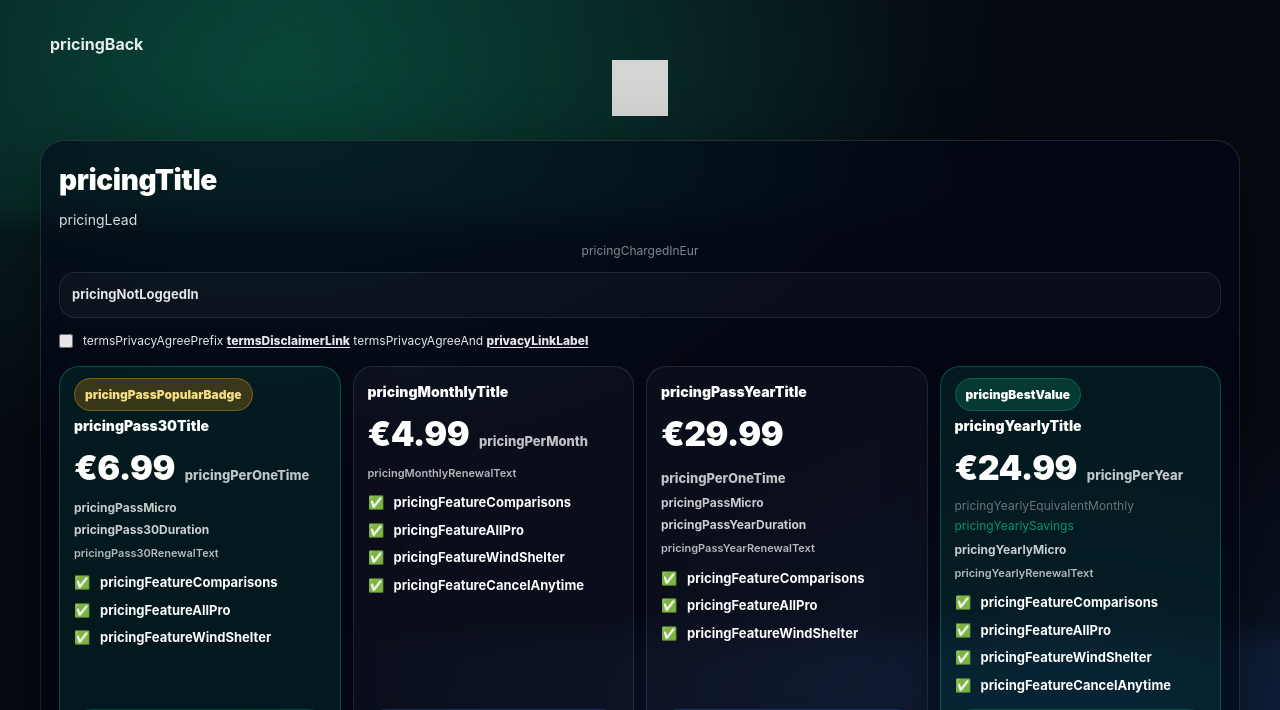
Test: Pricing — four plan cards › pass CTA buttons become enabled after accepting terms
Click the checkbox at (66, 340), box [59,334,73,348]
(page scrolled)
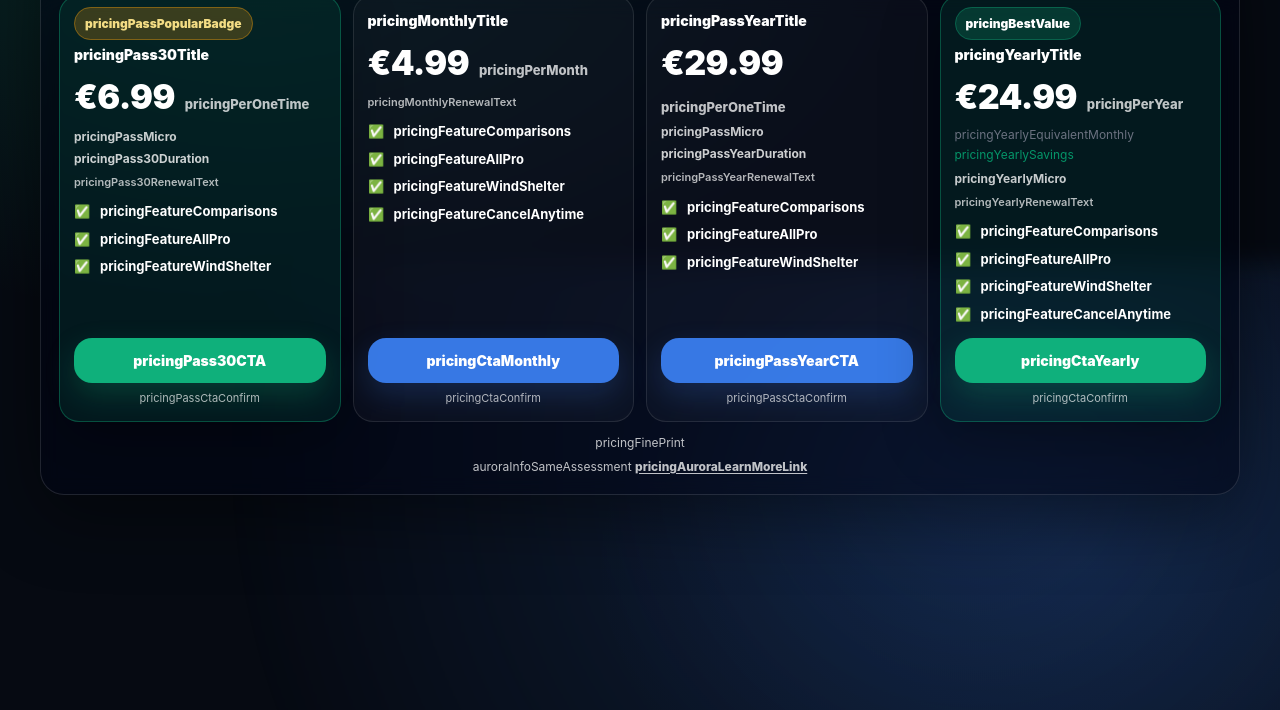
Expected: the button "pricingPass30CTA" is enabled, [74,338,326,383]
Expected: the button "pricingPassYearCTA" is enabled, [661,338,912,383]
